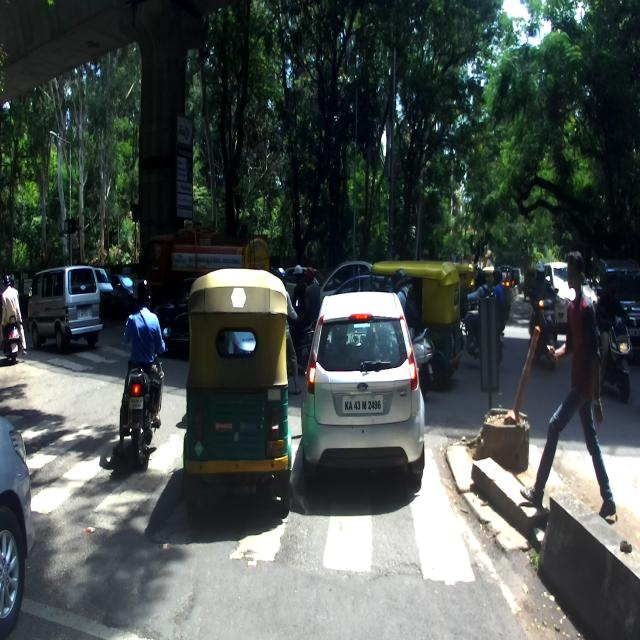auto ahead at: (185, 271, 295, 514)
car ahead at: (305, 289, 427, 482), (29, 262, 103, 355)
motorcycle ahead at: (120, 358, 172, 461), (0, 273, 27, 364)
person ahead at: (538, 240, 616, 520)
